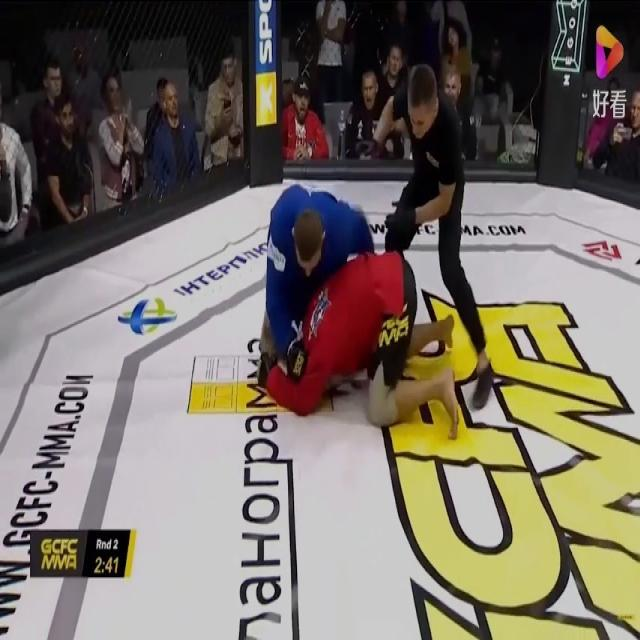fight: (246, 182, 461, 443)
non-fight: (371, 56, 496, 412)
